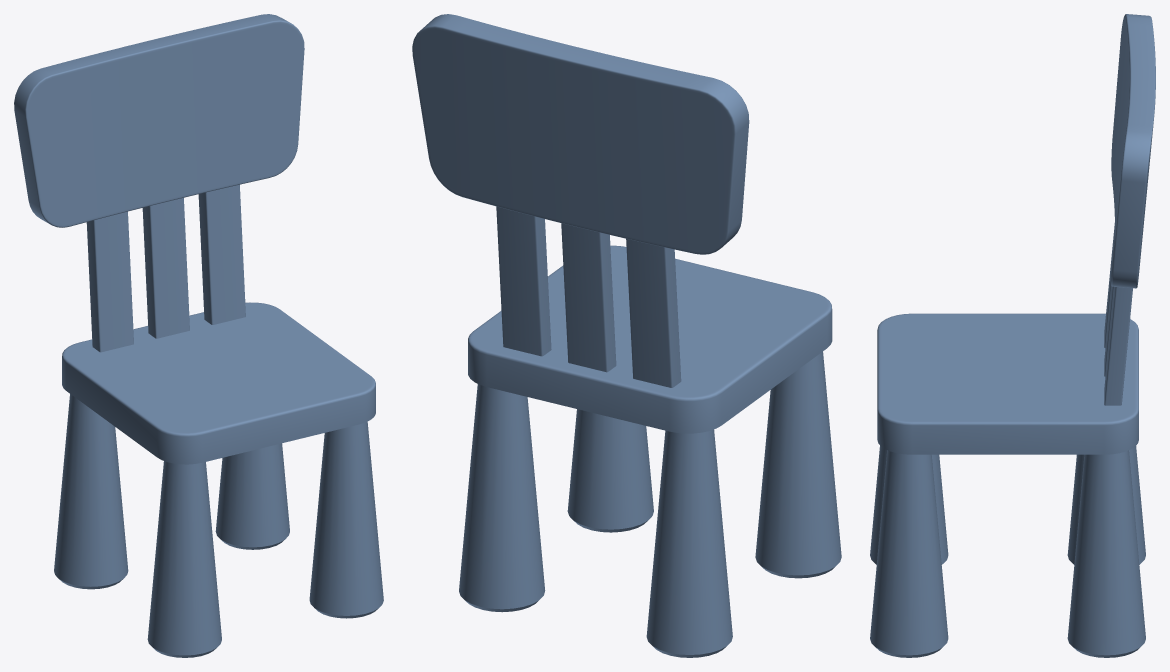
The model's file is Chair.FBX.
The picture shows the model from 3 angles, left to right: view 1: azimuth 30°, elevation 25°; view 2: azimuth 150°, elevation 25°; view 3: azimuth 270°, elevation 25°; orthographic projection. The views are drawn at different scales.
Parts seen in each view (by area): view 1: Shape017, Shape014, Shape016, Shape011, Shape010, Shape013, Shape012; view 2: Shape017, Shape014, Shape016, Shape013, Shape012, Shape011, Shape010; view 3: Shape014, Shape010, Shape012, Shape017, Shape016, Shape011, Shape013.
Part boxes in pixels (bbox=[...]): Shape017: bbox=[14, 14, 304, 227]; Shape014: bbox=[62, 302, 375, 464]; Shape016: bbox=[86, 184, 245, 352]; Shape011: bbox=[147, 461, 221, 657]; Shape010: bbox=[309, 421, 383, 618]; Shape013: bbox=[54, 394, 128, 589]; Shape012: bbox=[215, 443, 289, 549]; Shape017: bbox=[412, 14, 749, 254]; Shape014: bbox=[468, 245, 832, 433]; Shape016: bbox=[496, 206, 681, 387]; Shape013: bbox=[646, 429, 732, 657]; Shape012: bbox=[459, 384, 545, 612]; Shape011: bbox=[755, 351, 841, 578]; Shape010: bbox=[567, 409, 653, 532]; Shape014: bbox=[877, 313, 1138, 454]; Shape010: bbox=[870, 450, 948, 657]; Shape012: bbox=[1067, 450, 1145, 657]; Shape017: bbox=[1111, 14, 1155, 288]; Shape016: bbox=[1104, 223, 1132, 405]; Shape011: bbox=[870, 446, 948, 564]; Shape013: bbox=[1067, 446, 1145, 564].
Bounding box in the file's own units: 389 × 668 × 328.
